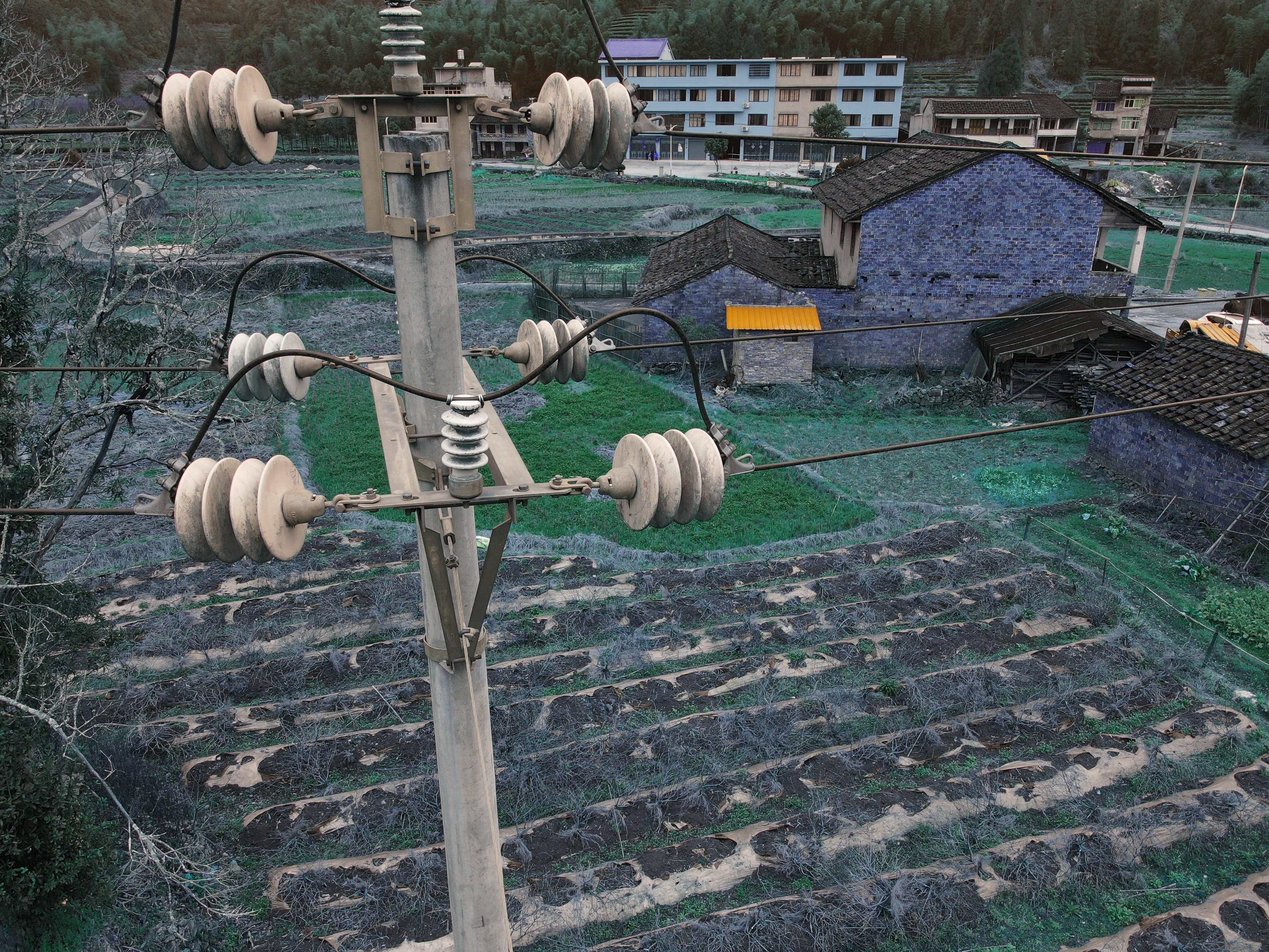severe_soiling_no_discharge_whole: (174, 451, 329, 567), (159, 61, 293, 174), (598, 428, 729, 529), (517, 71, 637, 170), (228, 328, 321, 404), (503, 315, 590, 387), (440, 394, 493, 500), (374, 5, 431, 94)
